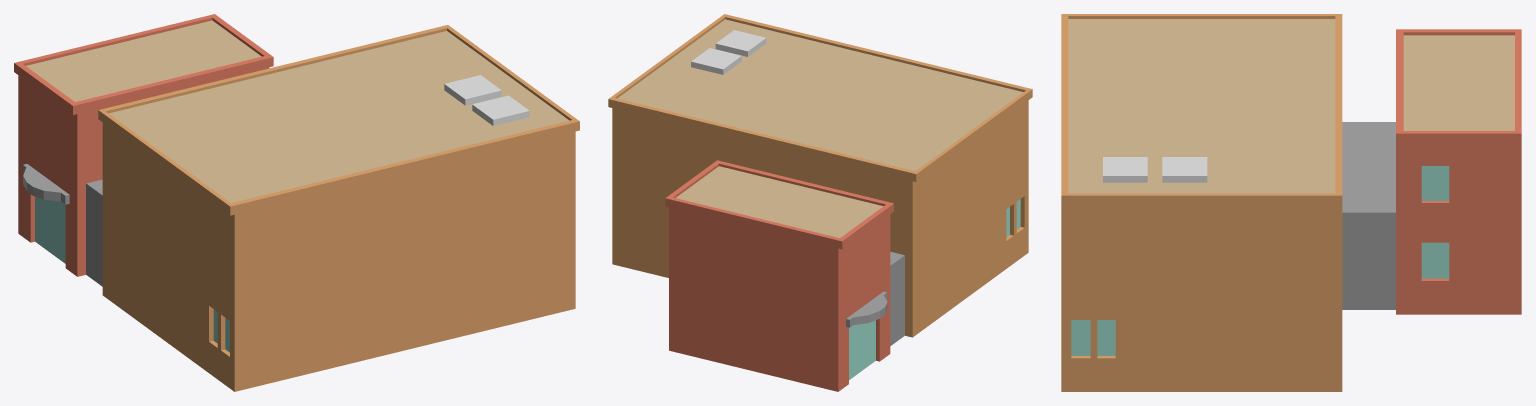
File: cinema.fbx
The picture shows the model from 3 angles, left to right: view 1: azimuth 30°, elevation 25°; view 2: azimuth 150°, elevation 25°; view 3: azimuth 270°, elevation 25°; orthographic projection. The views are drawn at different scales.
Visible parts, largest first — view 1: cinema; view 2: cinema; view 3: cinema.
Part boxes in pixels (left/top/right/bottom): cinema: left=14, top=14, right=579, bottom=391; cinema: left=608, top=14, right=1032, bottom=391; cinema: left=1061, top=14, right=1521, bottom=391.
Bounding box in the file's own units: 418 × 208 × 429.
